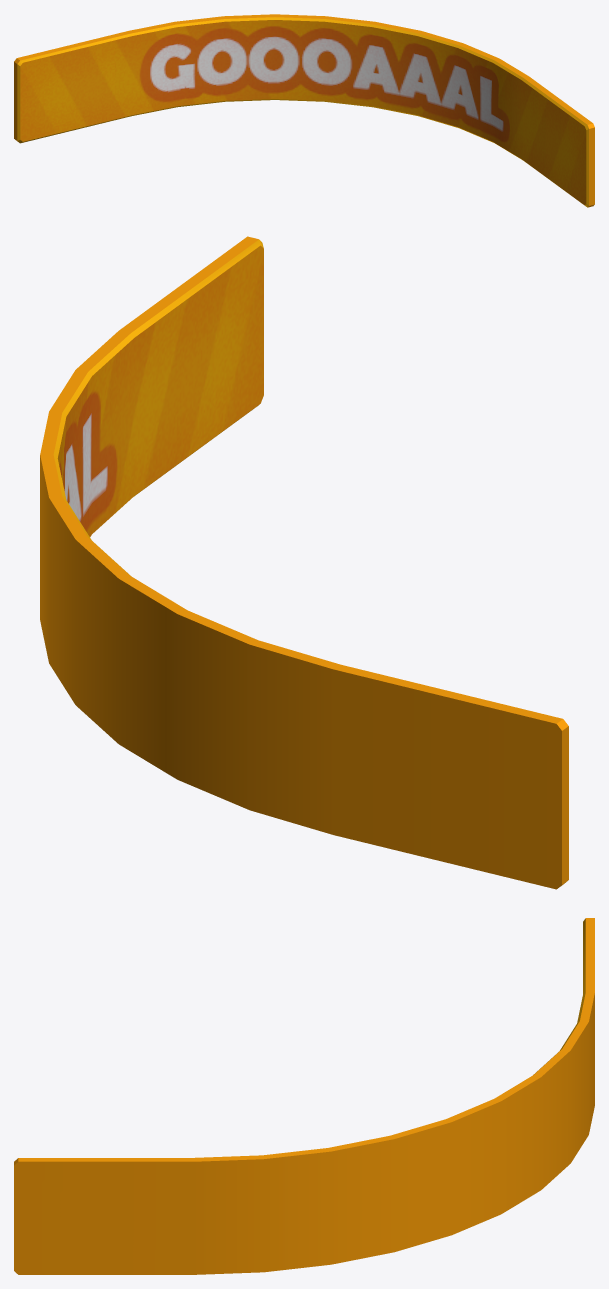
File: billboards_corner_B.fbx
The picture shows the model from 3 angles, top to bottom: view 1: azimuth 30°, elevation 25°; view 2: azimuth 150°, elevation 25°; view 3: azimuth 270°, elevation 25°; orthographic projection. The views are drawn at different scales.
Visible parts, largest first — view 1: billboards_corner_B; view 2: billboards_corner_B; view 3: billboards_corner_B.
Part boxes in pixels (x1,y1,x2,y2): billboards_corner_B: (14, 14, 594, 207); billboards_corner_B: (40, 236, 568, 889); billboards_corner_B: (14, 918, 594, 1274).
Bounding box in the file's own units: 290 × 62.33 × 290.
